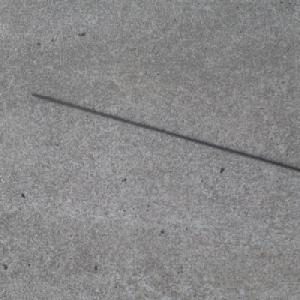LuggagePart: (29, 92, 300, 172)
